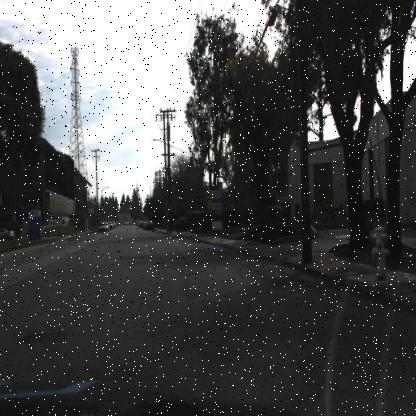car: (0, 225, 16, 241)
